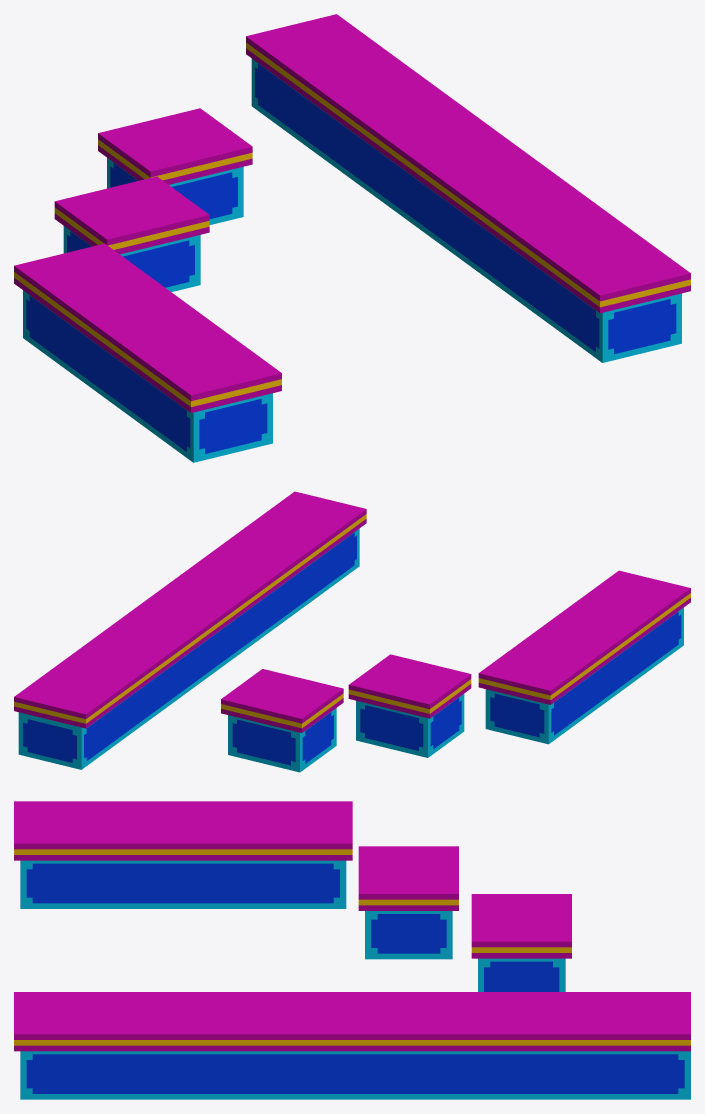
The model's file is level_2.3.obj.
3 views of the same model, one above another, from view 1: azimuth 30°, elevation 25°; view 2: azimuth 150°, elevation 25°; view 3: azimuth 270°, elevation 25° (orthographic). The views are drawn at different scales.
Size of the model in its own units: 8.8 by 1.2 by 10.8.
Materials: 1 (1 with a texture image).
